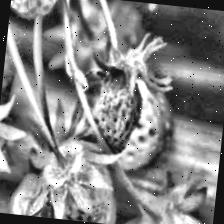Gray Mold: (77, 26, 178, 160)
